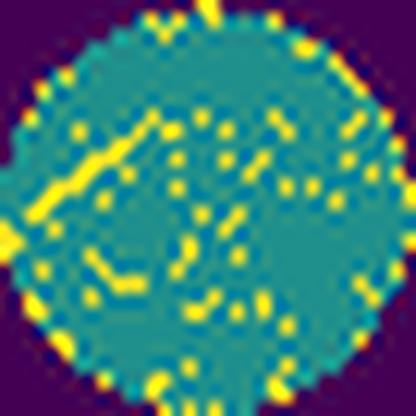Scratch: (18, 101, 169, 226)
